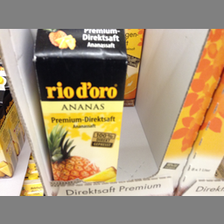juice: (34, 29, 128, 181)
